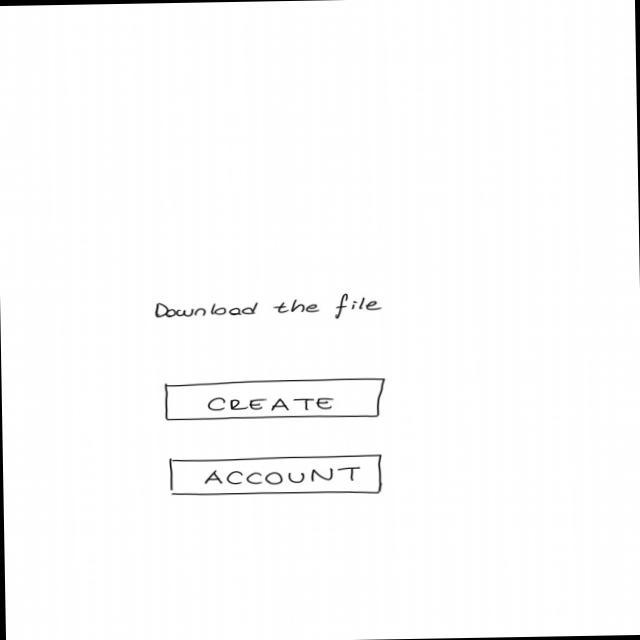button: (162, 374, 388, 424), (165, 452, 386, 498)
label: (152, 290, 386, 324)
